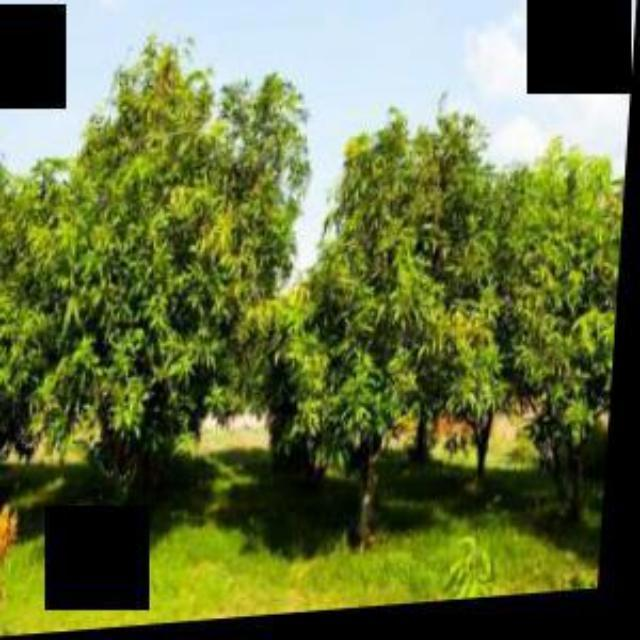tree: (0, 13, 326, 561), (274, 105, 516, 570), (489, 136, 629, 550)
